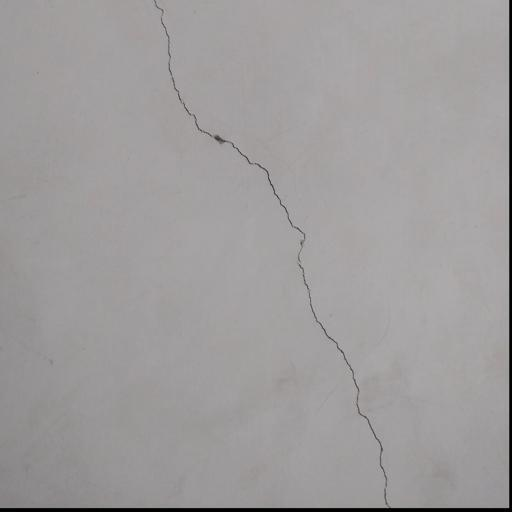major_crack: (144, 0, 396, 506)
